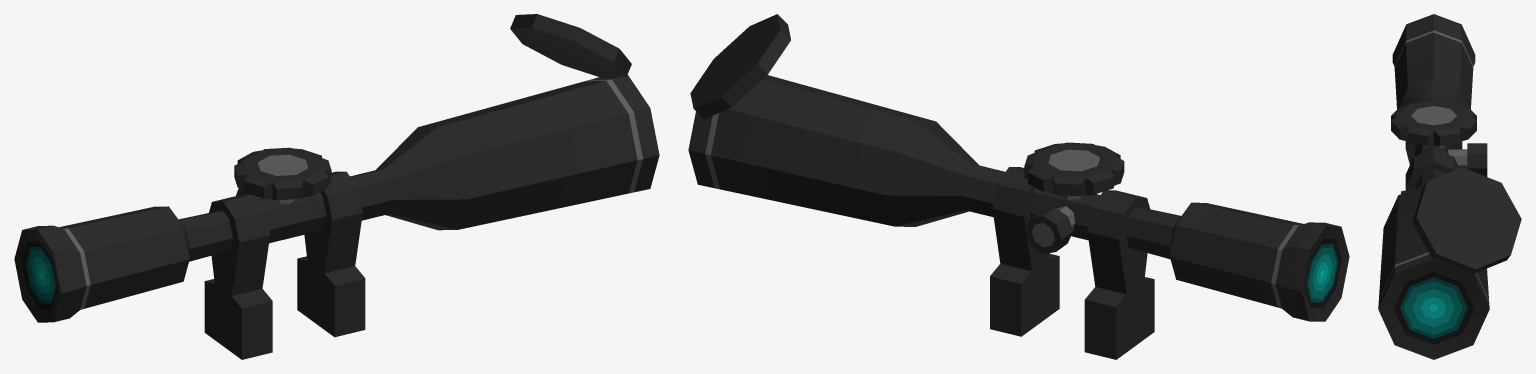
Rendered from Accessories_Sniper_Scope_E.FBX.
3 renders of one model, left to right at view 1: azimuth 30°, elevation 25°; view 2: azimuth 150°, elevation 25°; view 3: azimuth 270°, elevation 25°, orthographic. The views are drawn at different scales.
Parts seen in each view (by area): view 1: Accessories_Sniper_Scope_E; view 2: Accessories_Sniper_Scope_E; view 3: Accessories_Sniper_Scope_E.
Part boxes in pixels (x1,y1,x2,y2): Accessories_Sniper_Scope_E: [14, 14, 659, 359]; Accessories_Sniper_Scope_E: [688, 14, 1349, 359]; Accessories_Sniper_Scope_E: [1378, 14, 1521, 359].
Size of the model in its own units: 133 by 51.25 by 31.45.
